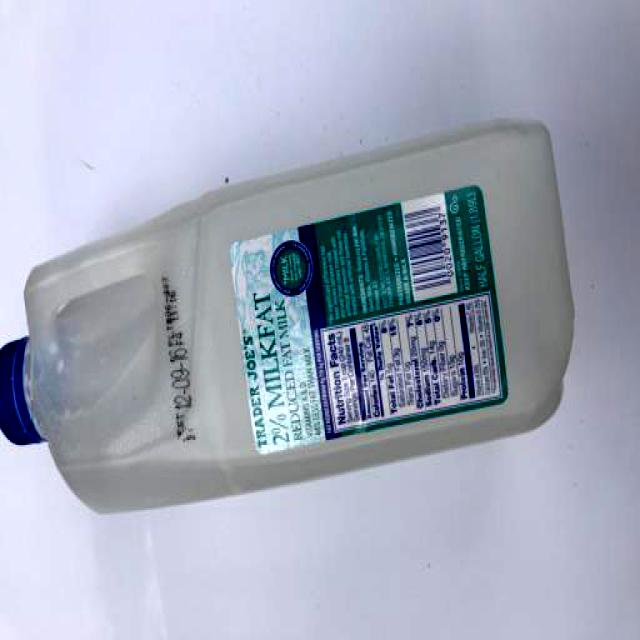plastic: (0, 112, 577, 518)
